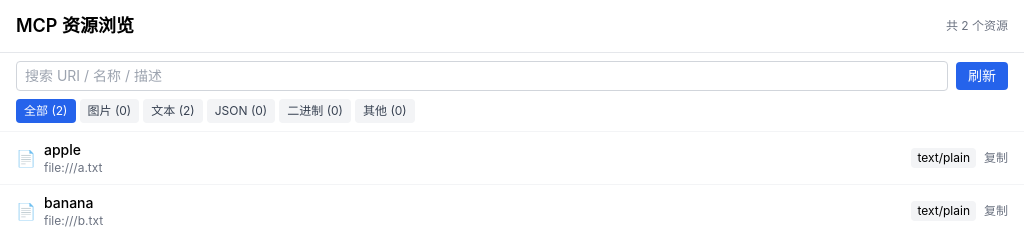
Test: McpResourcePanel › 搜索过滤
Expected: the text "apple" is shown, [44,141,81,158]
Type "ban" into the field with placeholder "搜索 URI / 名称 / 描述" at coordinates (482, 76), box [16,61,948,91]
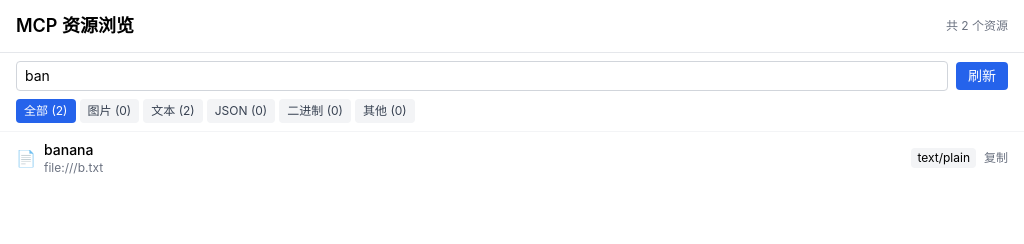
Expected: the text "banana" is shown, [44,141,94,158]
Expected: the text "apple" is gone
